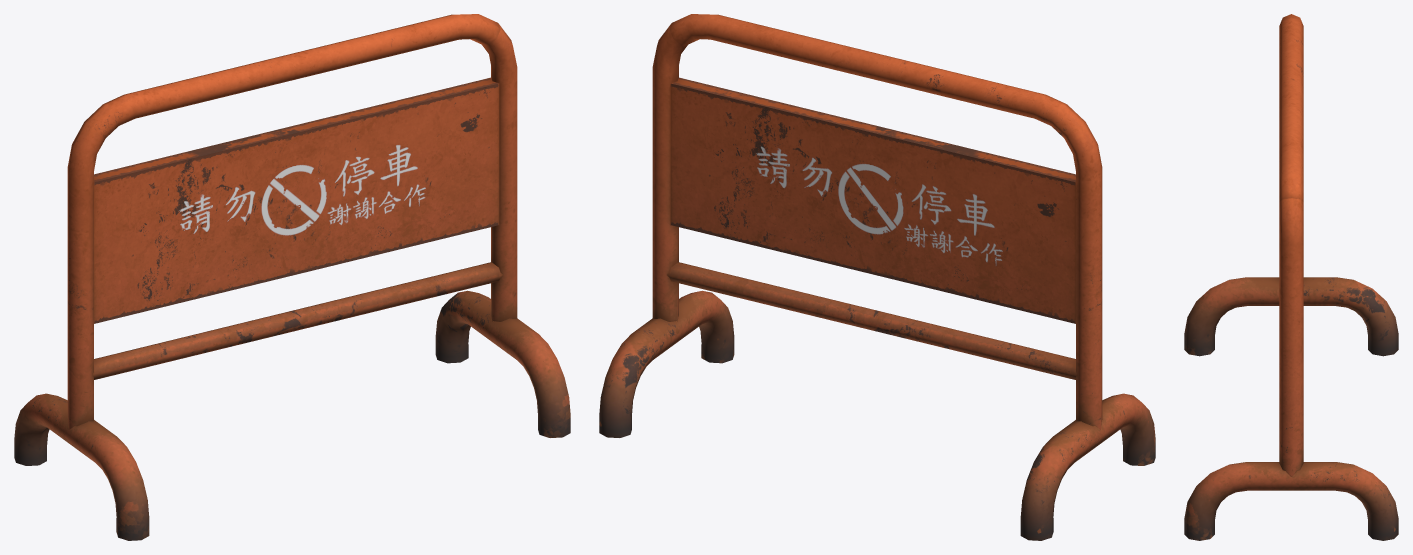
File: Billboard.fbx
3 renders of one model, left to right at view 1: azimuth 30°, elevation 25°; view 2: azimuth 150°, elevation 25°; view 3: azimuth 270°, elevation 25°, orthographic. The views are drawn at different scales.
Visible parts, largest first — view 1: Billboard; view 2: Billboard; view 3: Billboard.
Boxes of the visible parts, x1,y1,x2,y2 form: Billboard: [14, 14, 570, 540]; Billboard: [599, 14, 1155, 540]; Billboard: [1184, 14, 1398, 540].
Size of the model in its own units: 90.19 by 74.65 by 41.33.
